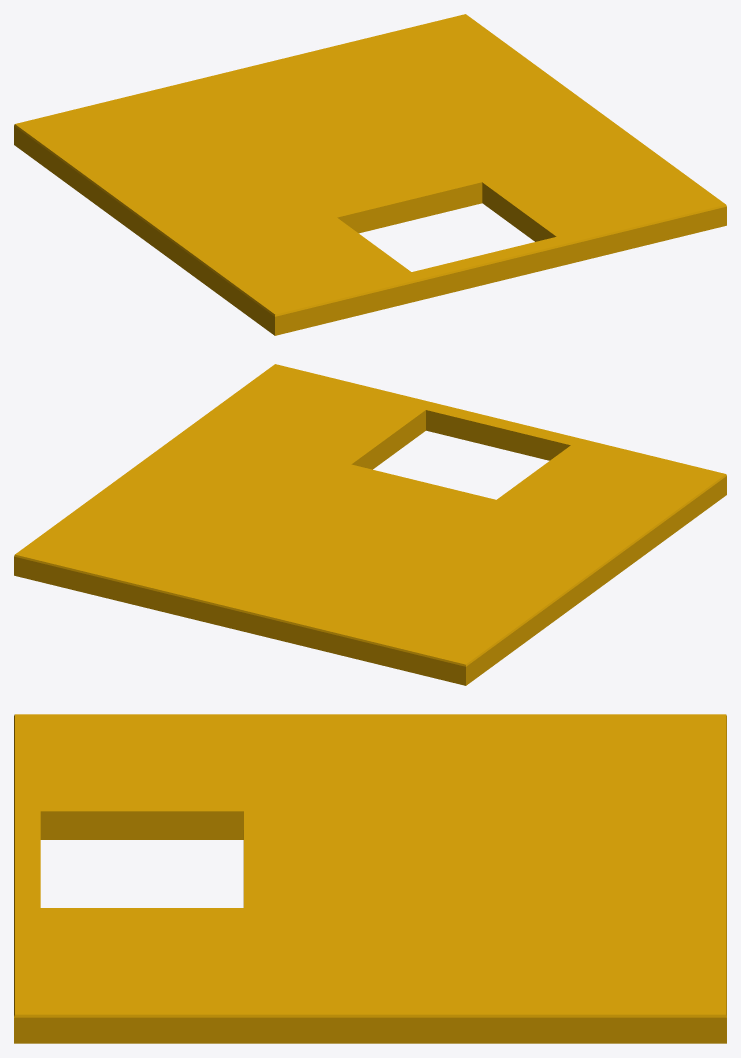
The model's file is Move_Game_SliderHole_06.fbx.
3 views of the same model, one above another, from view 1: azimuth 30°, elevation 25°; view 2: azimuth 150°, elevation 25°; view 3: azimuth 270°, elevation 25° (orthographic). The views are drawn at different scales.
Visible parts, largest first — view 1: Move_Game_SliderHole_06; view 2: Move_Game_SliderHole_06; view 3: Move_Game_SliderHole_06.
Boxes of the visible parts, x1,y1,x2,y2 form: Move_Game_SliderHole_06: (14,14,726,335); Move_Game_SliderHole_06: (14,364,726,685); Move_Game_SliderHole_06: (14,714,726,1043).
Size of the model in its own units: 17.29 by 0.7676 by 17.29.
